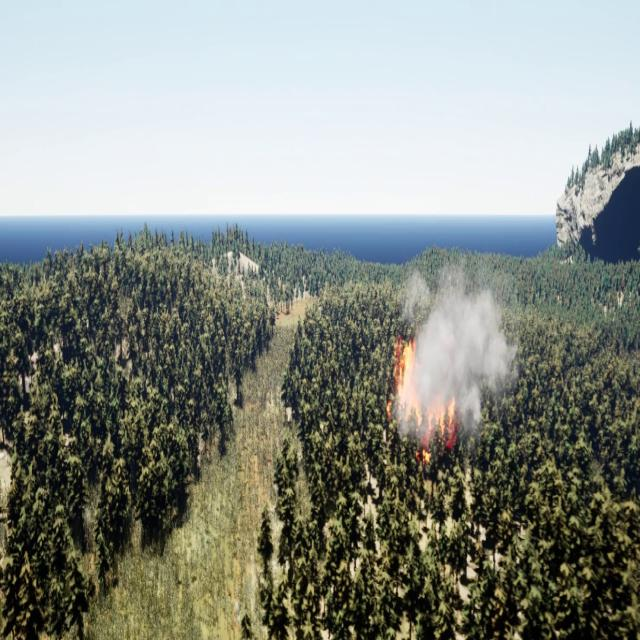fire: (388, 337, 458, 461)
smoke: (394, 260, 521, 478)
